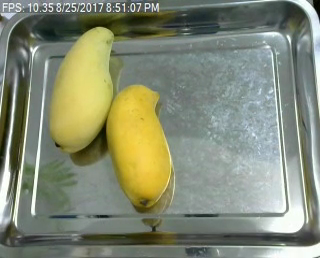Mango: (45, 24, 121, 156), (104, 79, 174, 212)
